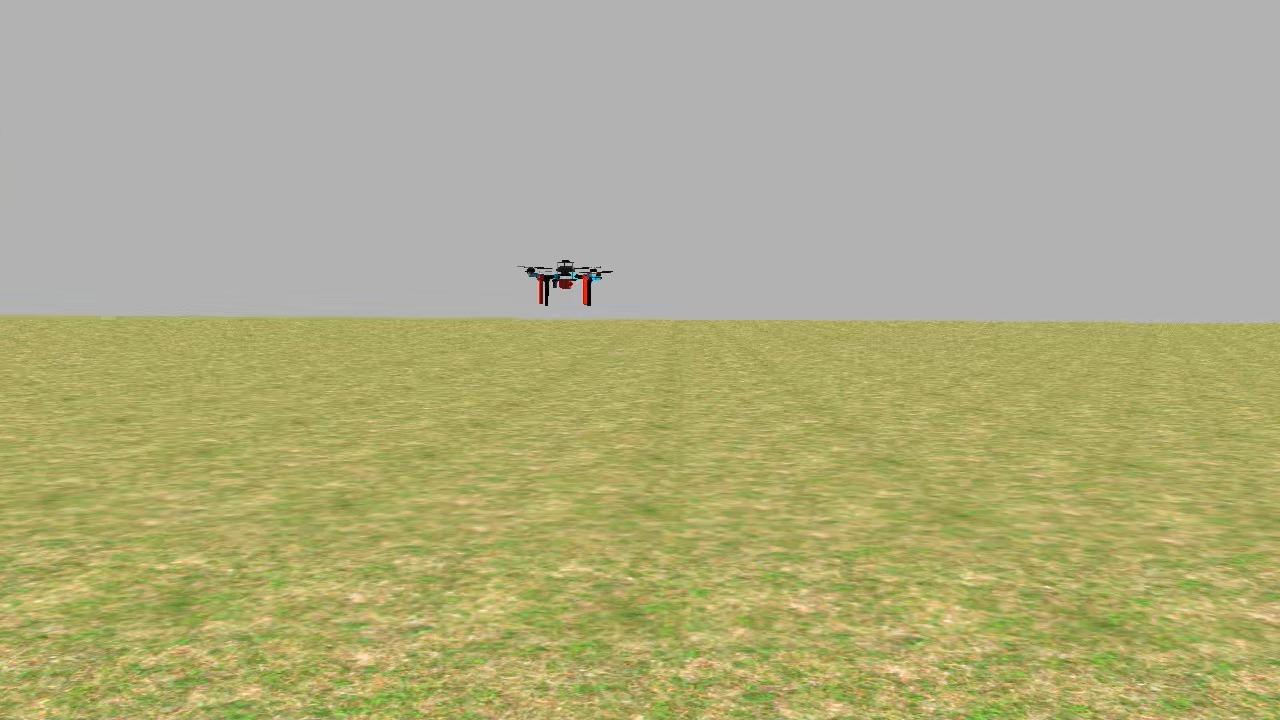UAV: (522, 258, 609, 310)
